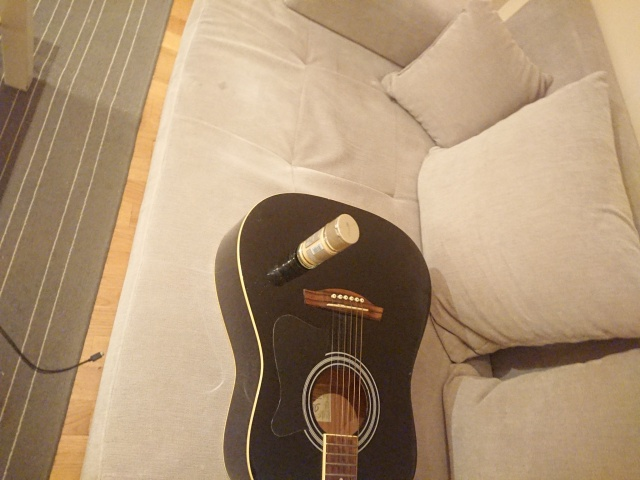Kotanyi Garlic Granules 70g: (294, 212, 362, 272)
